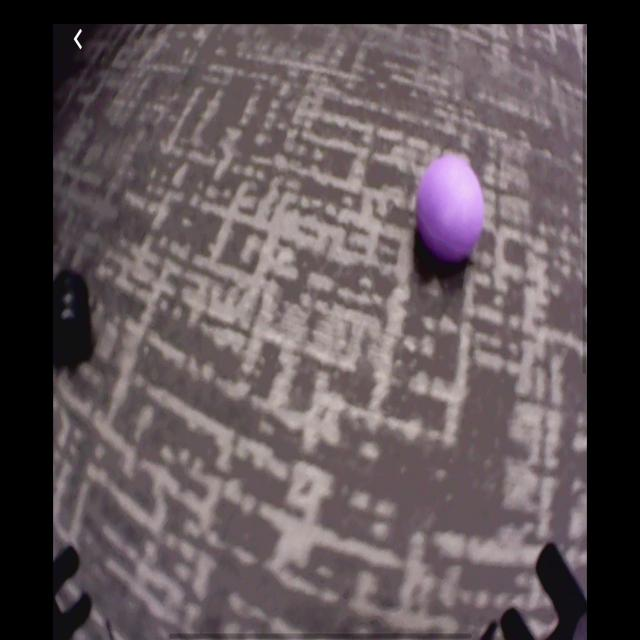ball: (416, 153, 486, 264)
